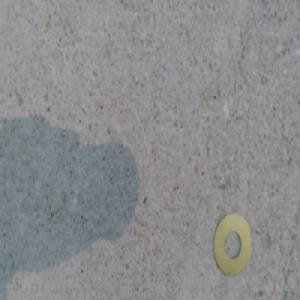Washer: (212, 212, 251, 276)
